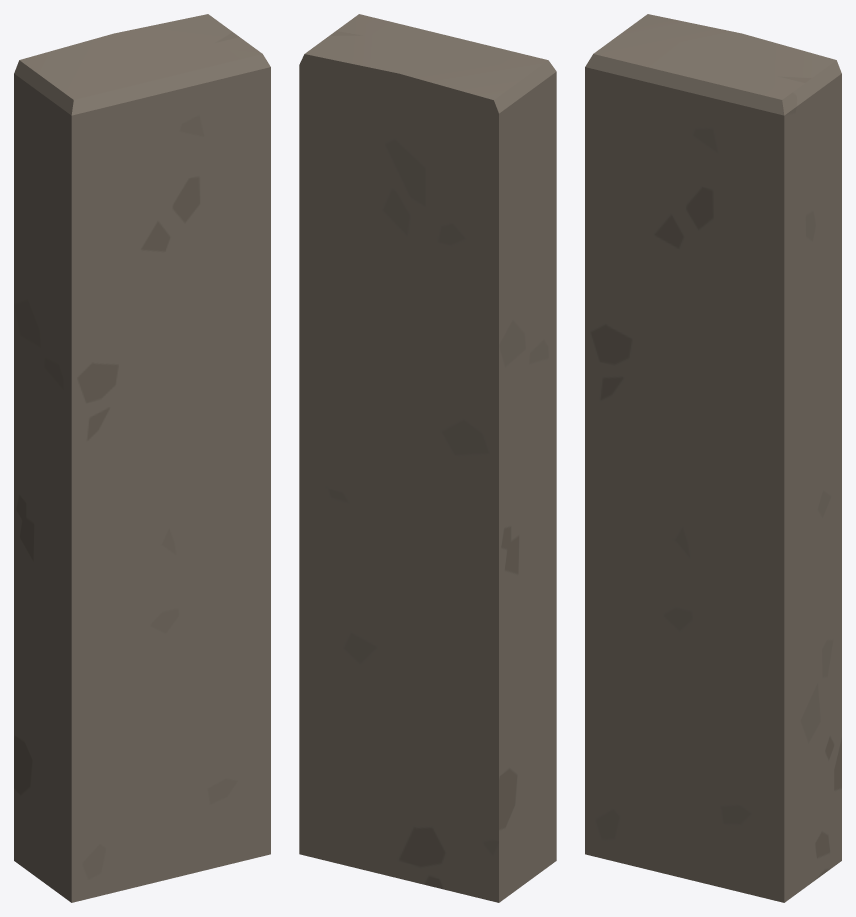
File: SM_Bld_Base_Pillar_Half_03_490.obj
The picture shows the model from 3 angles, left to right: view 1: azimuth 30°, elevation 25°; view 2: azimuth 150°, elevation 25°; view 3: azimuth 330°, elevation 25°; orthographic projection.
Visible parts, largest first — view 1: SM_Bld_Base_Pillar_Half_03_0; view 2: SM_Bld_Base_Pillar_Half_03_0; view 3: SM_Bld_Base_Pillar_Half_03_0.
Boxes of the visible parts, bbox=[...] form: SM_Bld_Base_Pillar_Half_03_0: bbox=[14, 14, 270, 902]; SM_Bld_Base_Pillar_Half_03_0: bbox=[299, 14, 556, 902]; SM_Bld_Base_Pillar_Half_03_0: bbox=[585, 14, 841, 902].
Bounding box in the file's own units: 0.3912 × 1.51 × 0.1956.
1 material, 1 textured.
